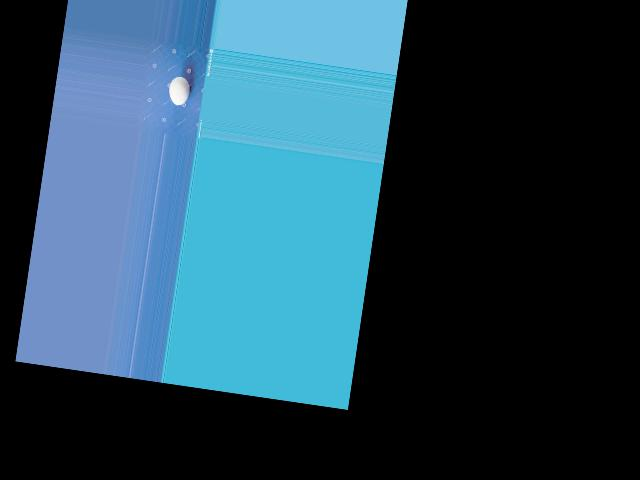egg: (167, 75, 191, 107)
